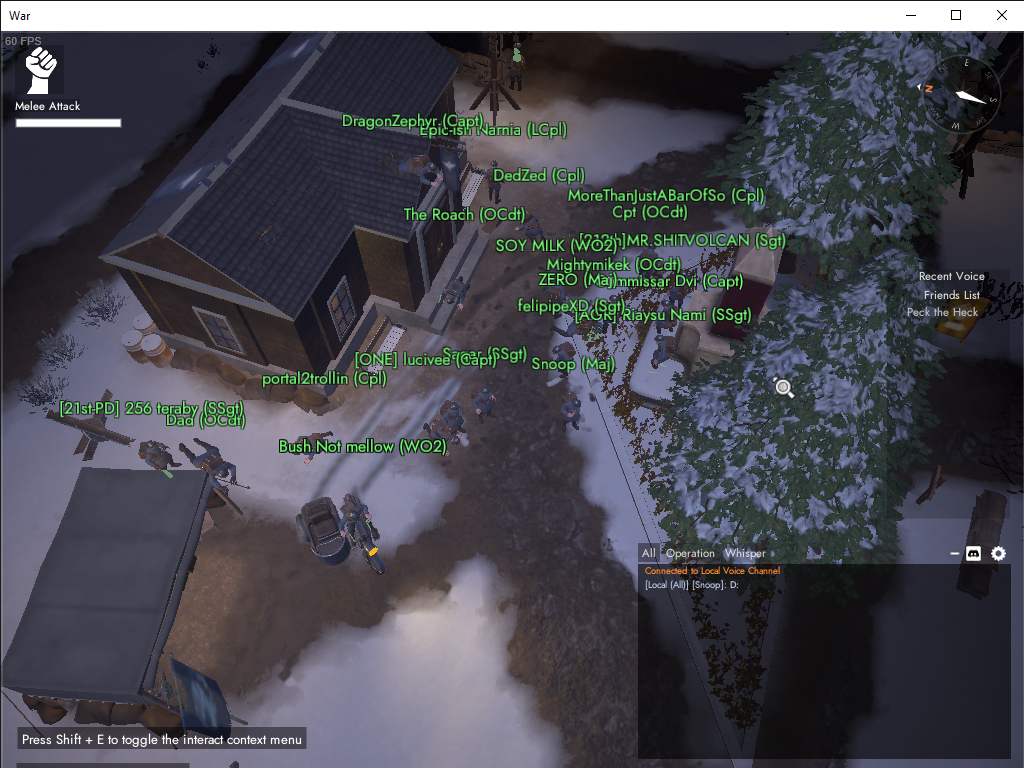motorcycle: (293, 494, 388, 577)
player: (178, 437, 252, 496), (375, 148, 444, 189), (546, 307, 612, 345), (337, 500, 379, 548), (138, 439, 183, 480), (421, 415, 464, 457), (288, 431, 335, 466), (512, 206, 546, 250), (434, 274, 473, 310), (438, 400, 468, 441), (469, 385, 499, 425), (482, 159, 507, 205), (636, 242, 659, 287), (543, 275, 566, 319), (649, 334, 677, 370), (506, 46, 527, 94), (551, 341, 576, 381), (598, 294, 620, 337), (560, 392, 581, 435), (668, 270, 688, 312), (653, 299, 676, 335)
sandbag: (954, 489, 1008, 600)
wire: (968, 270, 1024, 322)
